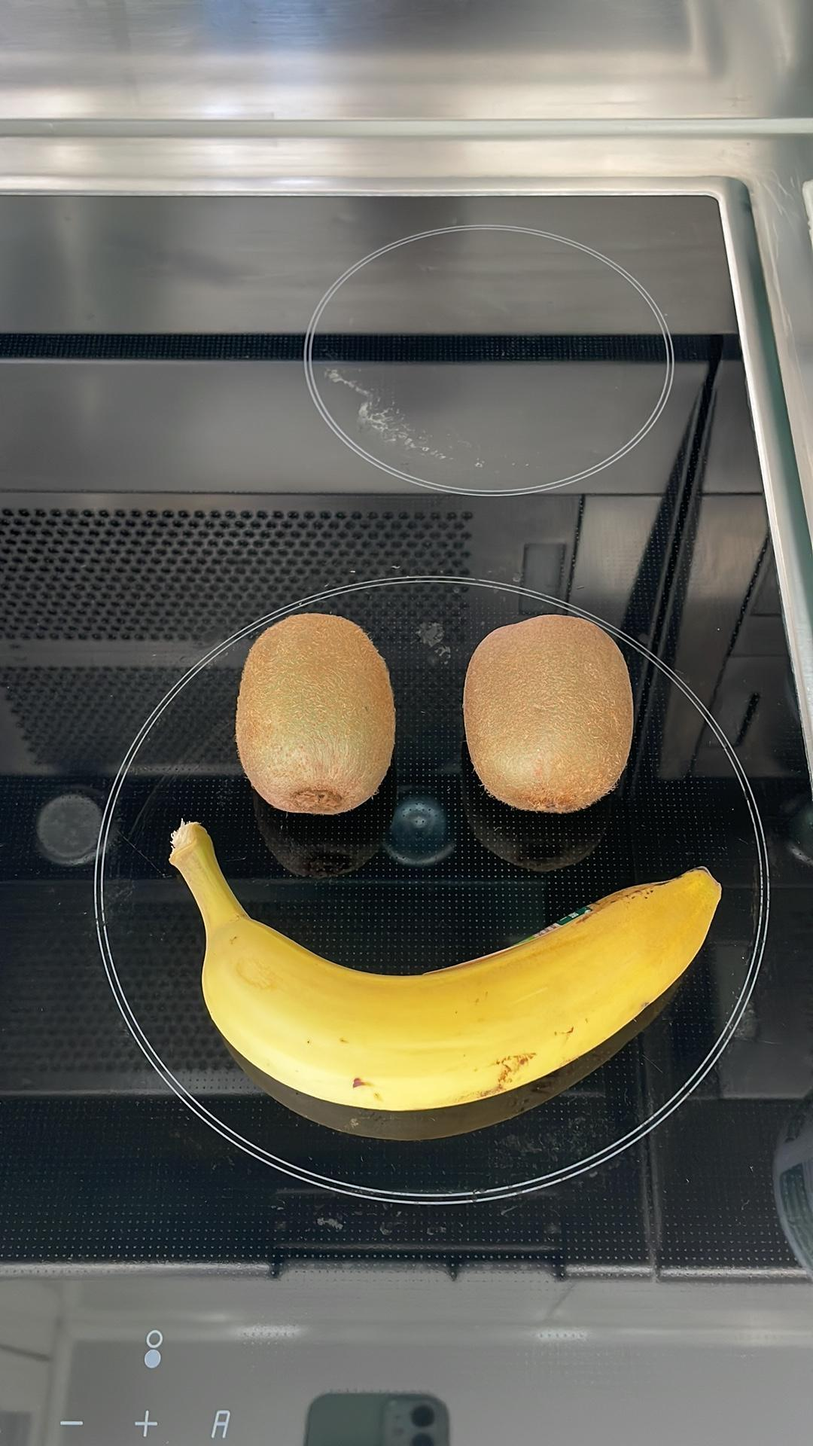banana: (164, 821, 721, 1114)
kiwi: (463, 610, 635, 813), (236, 608, 398, 815)
